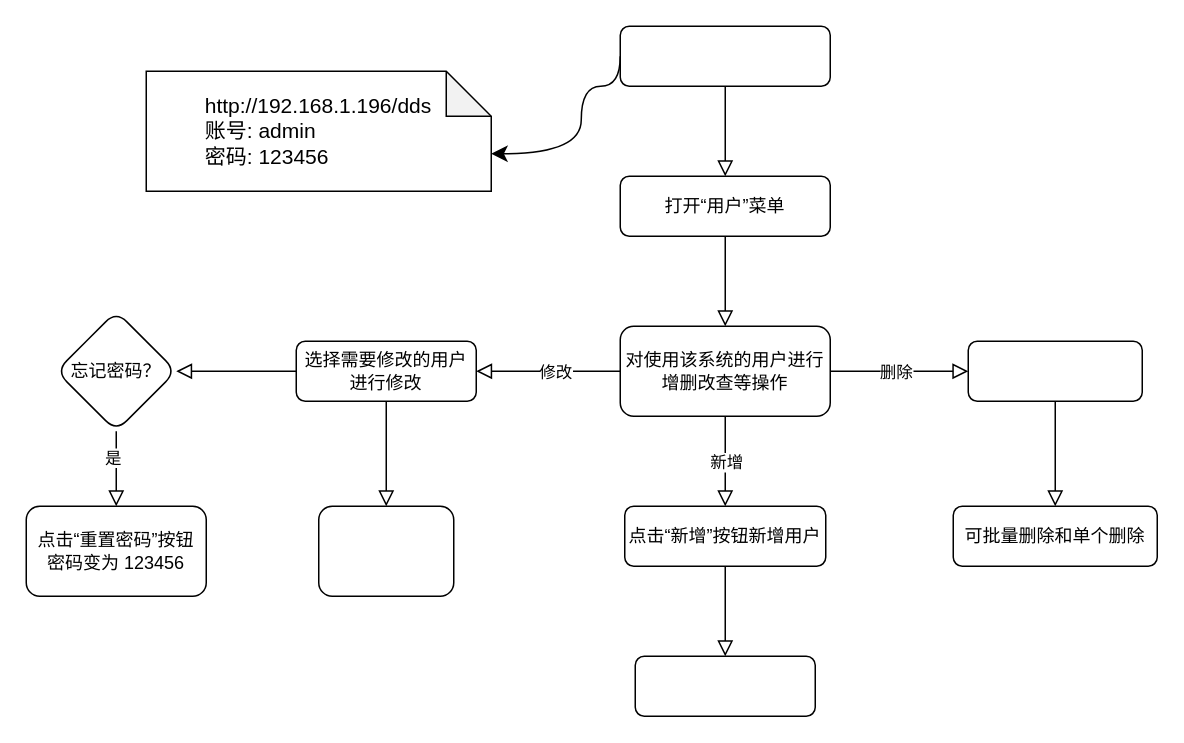
Some shapes in this 1184 by 743 pixel diagram are drawn without their labels. The centre of each missing label's shape, as x and y in pixels:
"修改用户信息后点击保存" belongs at pixel 385 550.
"填写用户信息后保存" belongs at pixel 724 685.
"登录DDS后台管理系统" belongs at pixel 724 55.
"选择需要删除的用户" belongs at pixel 1054 370.
